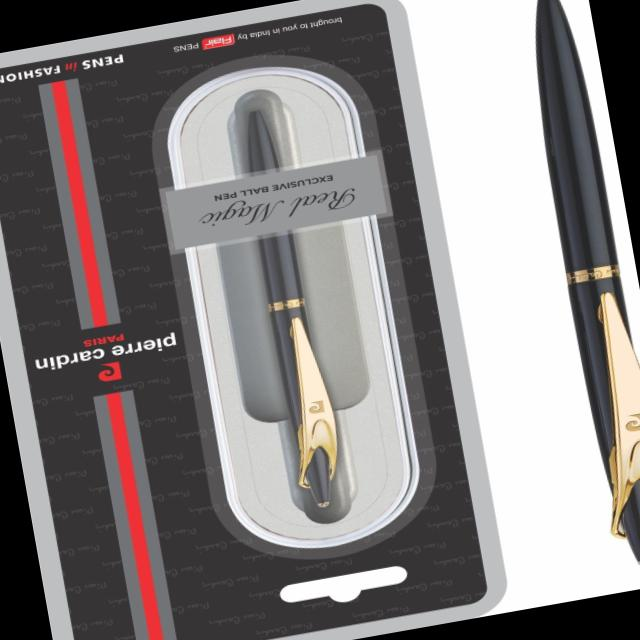pen: (498, 0, 640, 575)
